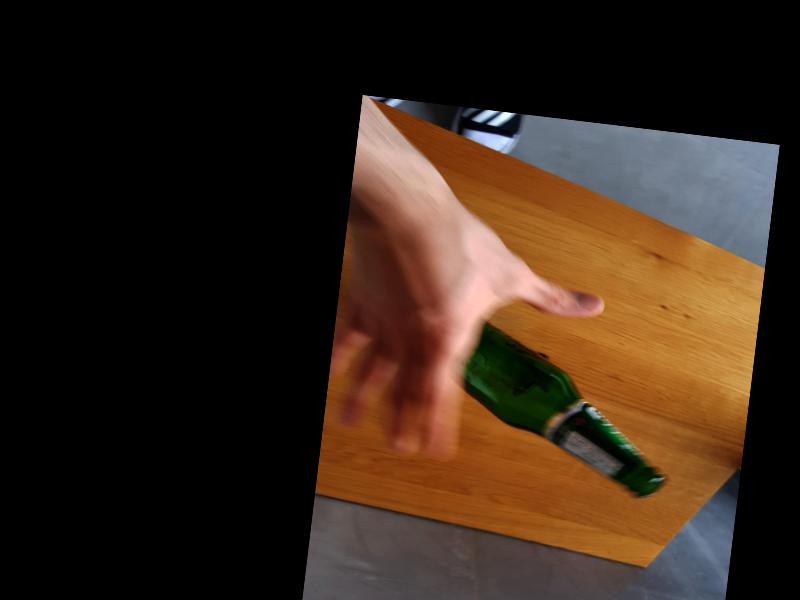Beer: (453, 318, 682, 500)
